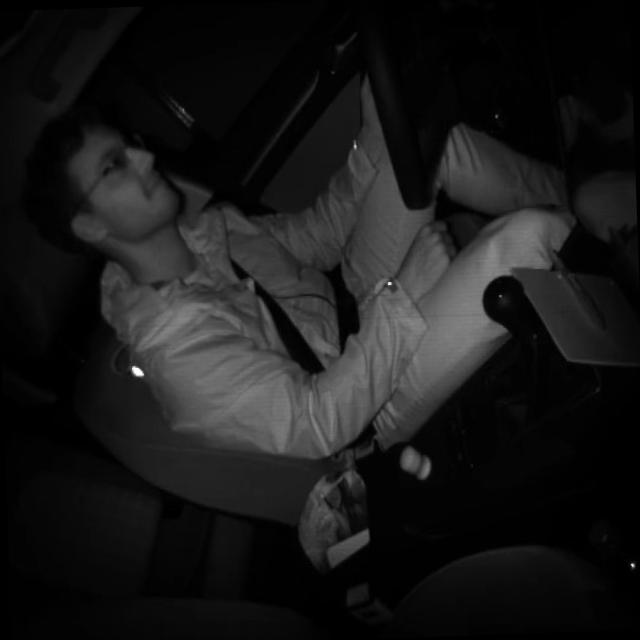pen: (546, 240, 612, 336)
